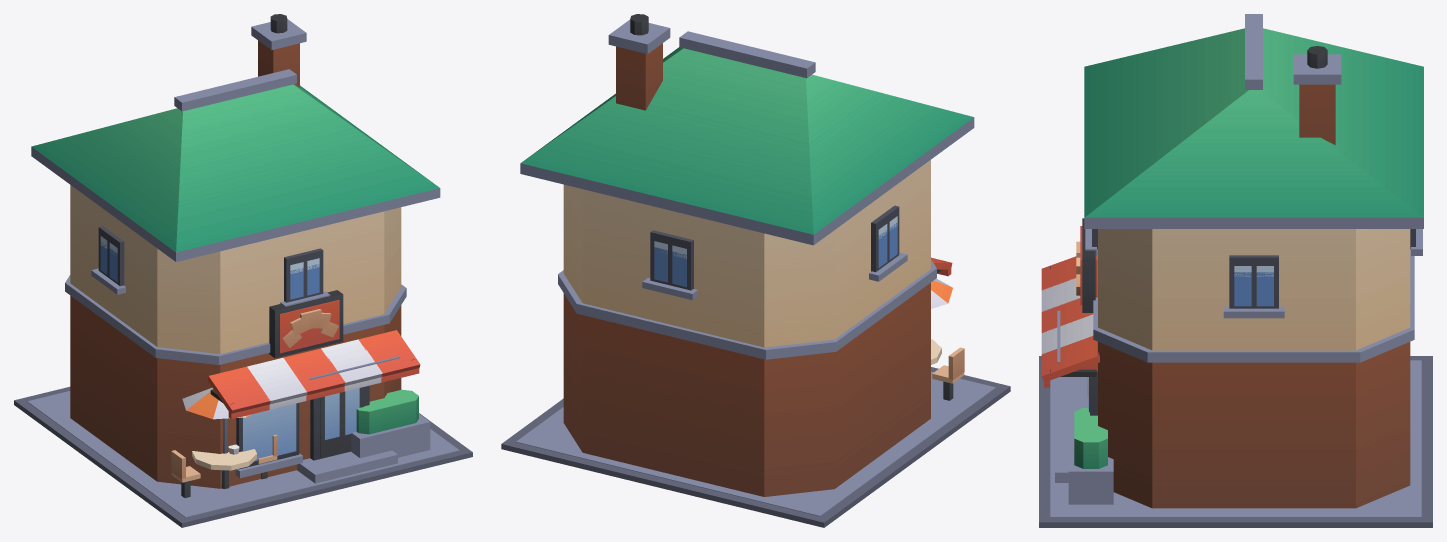
The model's file is com_corner_bakery_1x1.glb.
3 renders of one model, left to right at view 1: azimuth 30°, elevation 25°; view 2: azimuth 150°, elevation 25°; view 3: azimuth 270°, elevation 25°, orthographic. The views are drawn at different scales.
Visible parts, largest first — view 1: com_corner_bakery_1x1; view 2: com_corner_bakery_1x1; view 3: com_corner_bakery_1x1.
Part boxes in pixels (box(x1,y1,x2,y2)): com_corner_bakery_1x1: box(14, 14, 472, 527); com_corner_bakery_1x1: box(501, 14, 1010, 527); com_corner_bakery_1x1: box(1039, 14, 1432, 527).
Bounding box in the file's own units: 1.74 × 2.12 × 1.74.
Materials: 1 (1 with a texture image).
